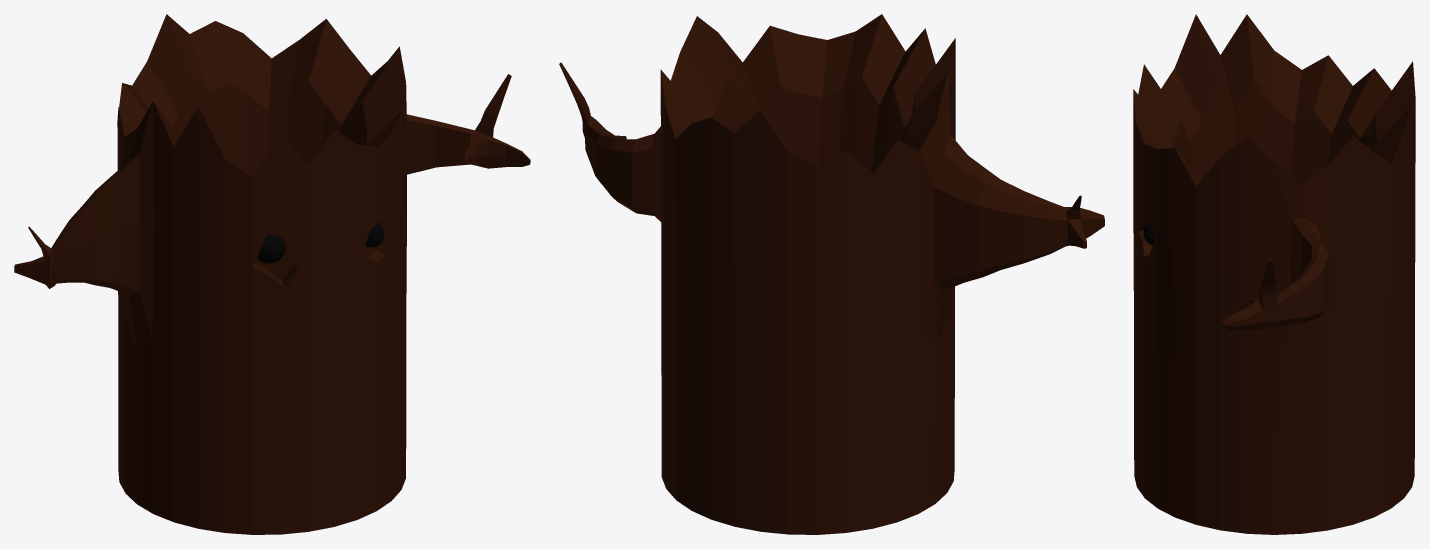
Rendered from treeEnttest.fbx.
3 renders of one model, left to right at view 1: azimuth 30°, elevation 25°; view 2: azimuth 150°, elevation 25°; view 3: azimuth 270°, elevation 25°, orthographic. The views are drawn at different scales.
Visible parts, largest first — view 1: TreeEnt, Sphere.001; view 2: TreeEnt; view 3: TreeEnt.
Part boxes in pixels (box(x1,y1,x2,y2)): TreeEnt: box(14, 14, 530, 534); Sphere.001: box(257, 234, 285, 263); TreeEnt: box(559, 14, 1104, 534); TreeEnt: box(1133, 14, 1415, 534).
Size of the model in its own units: 404 by 322 by 200.
